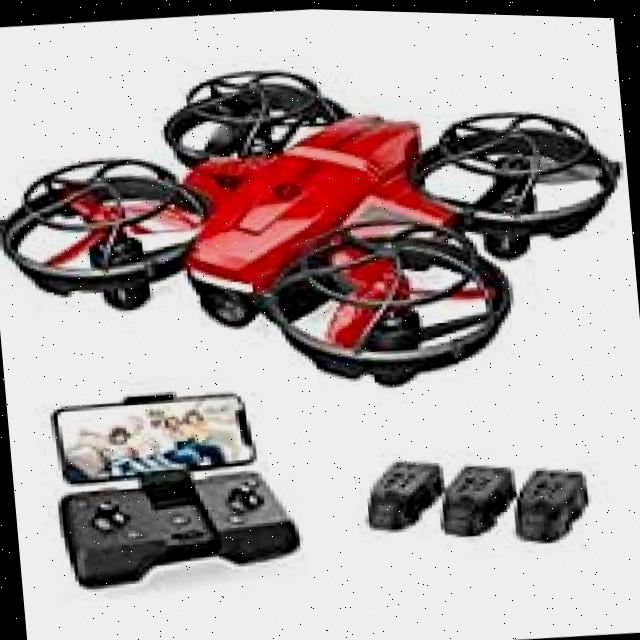drone: (0, 12, 640, 423)
